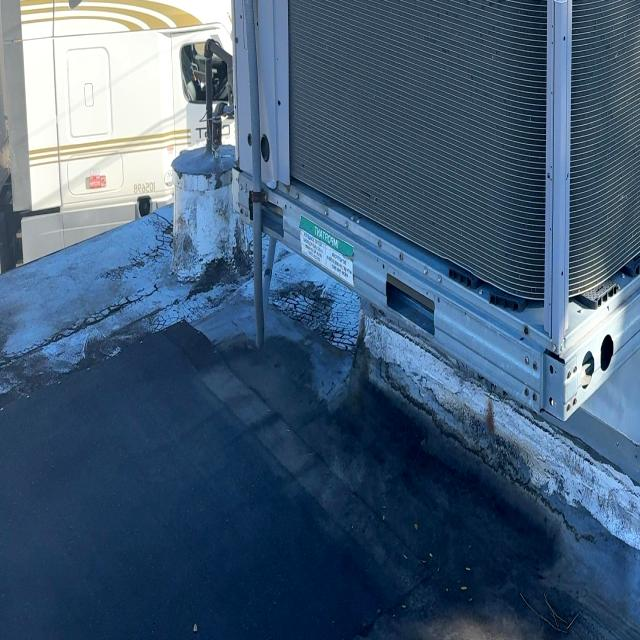RTU: (180, 0, 640, 439)
